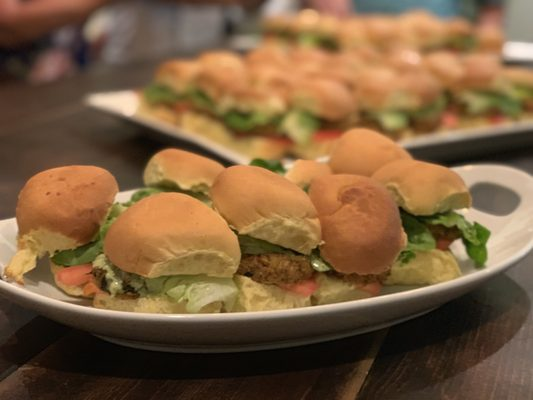soup: (91, 188, 243, 313), (3, 164, 120, 291)
sushi: (9, 89, 531, 380)
